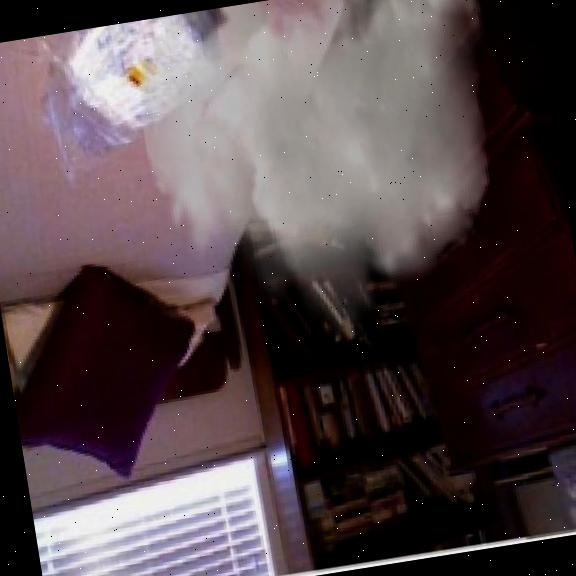smoke: (123, 0, 531, 371)
